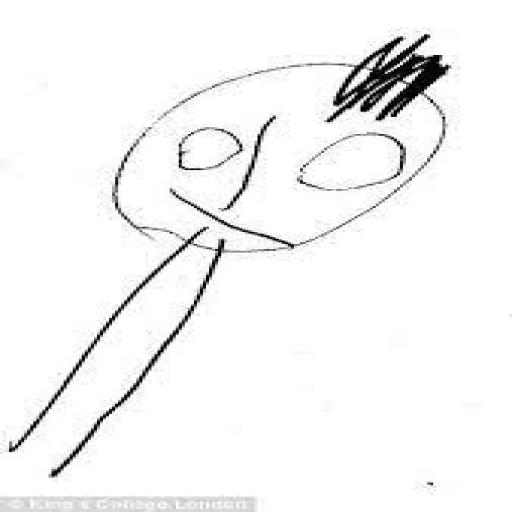person: (0, 30, 473, 480)
